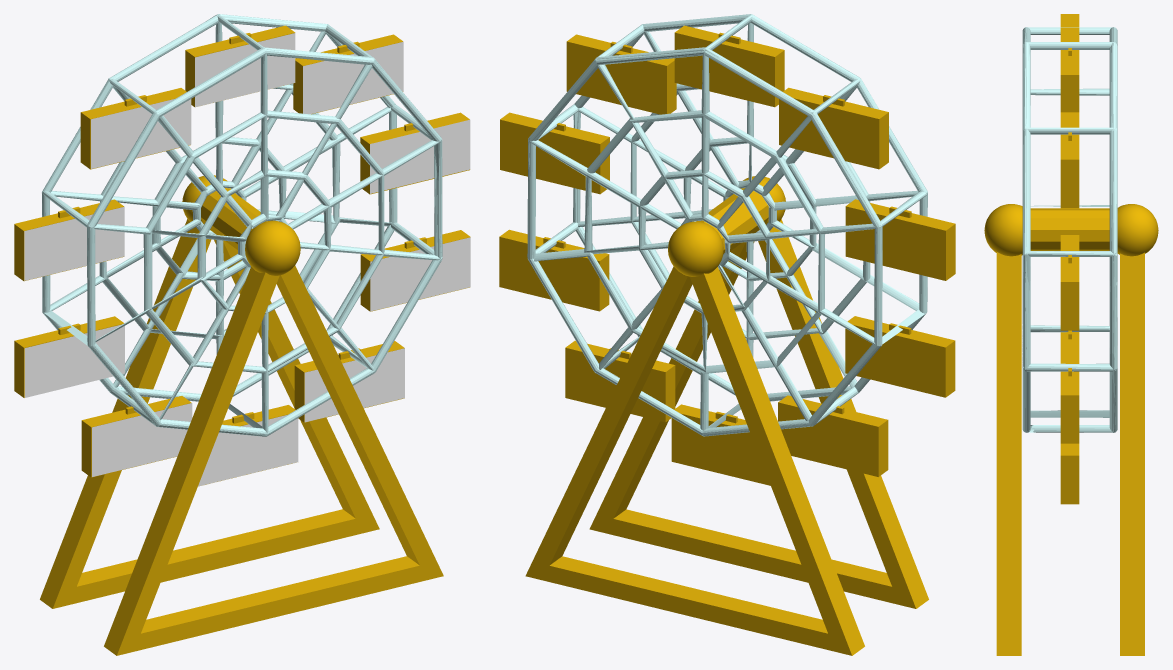
3 renders of one model, left to right at view 1: azimuth 30°, elevation 25°; view 2: azimuth 150°, elevation 25°; view 3: azimuth 270°, elevation 25°, orthographic. The views are drawn at different scales.
Parts seen in each view (by area): view 1: Cylinder, Plane.011, Plane, Plane.004, Plane.003, Plane.005, Plane.010, Plane.008, Plane.006, Plane.009, Plane.007, Plane.001 (+12 smaller); view 2: Cylinder, Plane, Plane.011, v.005, v.004, v.003, v.006, v.008, v.007, v.010, v.009, v.001 (+3 smaller); view 3: Cylinder, Plane.011, Plane, Cylinder.001, Sphere.001, v.009, v.008, v.010, Sphere, v.007, v.002, v.003 (+1 smaller).
Boxes of the visible parts, x1=… form: Cylinder: x1=42, y1=14, x2=442, y2=436; Plane.011: x1=104, y1=265, x2=443, y2=655; Plane: x1=40, y1=219, x2=379, y2=608; Plane.004: x1=24, y1=324, x2=124, y2=397; Plane.003: x1=92, y1=403, x2=192, y2=476; Plane.005: x1=24, y1=206, x2=124, y2=280; Plane.010: x1=370, y1=237, x2=470, y2=311; Plane.008: x1=303, y1=41, x2=403, y2=114; Plane.006: x1=91, y1=99, x2=191, y2=168; Plane.009: x1=370, y1=119, x2=470, y2=193; Plane.007: x1=195, y1=33, x2=295, y2=107; Plane.001: x1=198, y1=415, x2=298, y2=486; Cylinder: x1=527, y1=14, x2=927, y2=436; Plane: x1=525, y1=266, x2=864, y2=655; Plane.011: x1=589, y1=219, x2=928, y2=608; v.005: x1=845, y1=199, x2=955, y2=280; v.004: x1=845, y1=316, x2=955, y2=397; v.003: x1=778, y1=395, x2=888, y2=476; v.006: x1=779, y1=87, x2=888, y2=169; v.008: x1=566, y1=34, x2=676, y2=114; v.007: x1=674, y1=25, x2=784, y2=107; v.010: x1=499, y1=229, x2=609, y2=311; v.009: x1=500, y1=112, x2=609, y2=194; v.001: x1=671, y1=404, x2=770, y2=485; Cylinder: x1=1022, y1=27, x2=1117, y2=432; Plane.011: x1=996, y1=252, x2=1021, y2=655; Plane: x1=1120, y1=252, x2=1144, y2=655; Cylinder.001: x1=1030, y1=208, x2=1109, y2=250; Sphere.001: x1=1117, y1=204, x2=1158, y2=256; v.009: x1=1060, y1=235, x2=1079, y2=330; v.008: x1=1060, y1=112, x2=1079, y2=207; v.010: x1=1060, y1=348, x2=1079, y2=443; Sphere: x1=984, y1=204, x2=1022, y2=256; v.007: x1=1060, y1=27, x2=1079, y2=112; v.002: x1=1060, y1=443, x2=1079, y2=504; v.003: x1=1060, y1=330, x2=1079, y2=347.
Size of the model in its own units: 2.45 by 2.92 by 0.8585.
